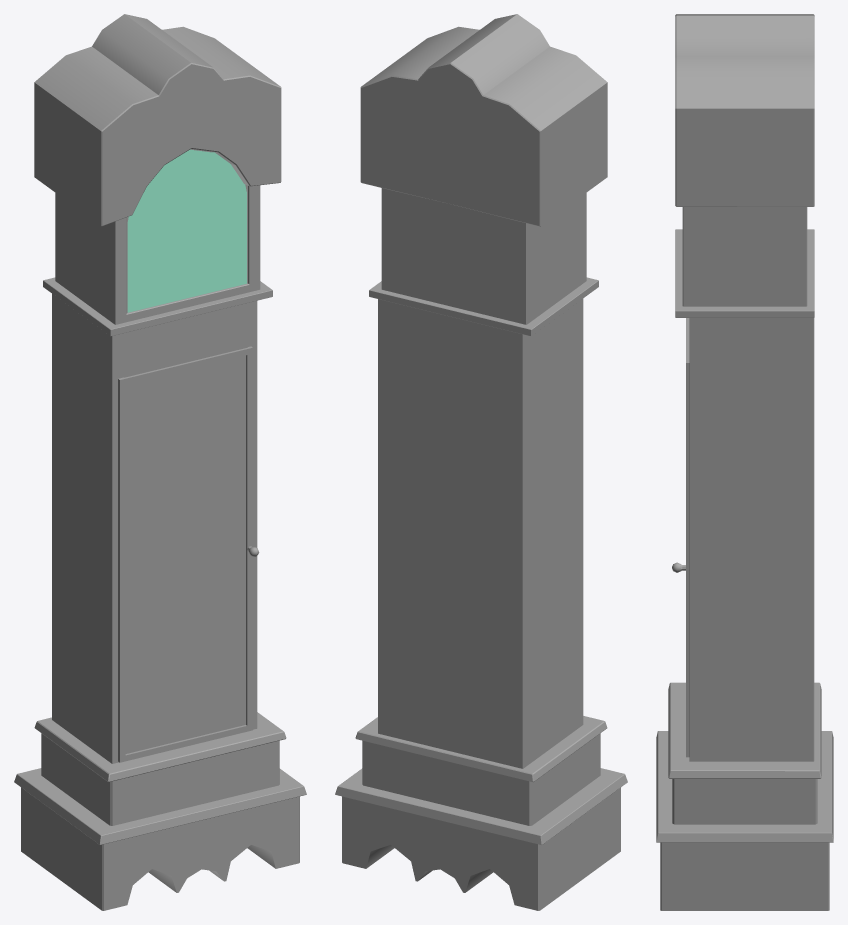
Rendered from gfclocknew.fbx.
3 views of the same model, side by side, from view 1: azimuth 30°, elevation 25°; view 2: azimuth 150°, elevation 25°; view 3: azimuth 270°, elevation 25° (orthographic). The views are drawn at different scales.
Visible parts, largest first — view 1: pPlane5, pCube146, lowpolyclock, pCube134, polySurface996, pCube135, polySurface82, pCube138, pCube140, pCube139, pCube136; view 2: pCube146, lowpolyclock, polySurface82, pCube134, pCube135, pCube140, pCube139, pCube136; view 3: pCube146, lowpolyclock, polySurface82, pCube134, pCube135, pCube140, pCube139, pCube136, pCube138.
Part boxes in pixels (x1,y1,x2,y2): pPlane5: (124,344,247,753); pCube146: (52,294,257,763); lowpolyclock: (34,14,281,226); pCube134: (21,787,299,910); polySurface996: (126,149,247,312); pCube135: (41,733,279,825); polySurface82: (55,185,260,324); pCube138: (118,346,252,762); pCube140: (14,768,306,844); pCube139: (34,712,286,782); pCube136: (43,277,272,336); pCube146: (378,299,583,768); lowpolyclock: (360,14,607,226); polySurface82: (381,188,586,324); pCube134: (342,787,620,910); pCube135: (362,733,600,825); pCube140: (335,768,627,844); pCube139: (355,716,607,782); pCube136: (369,277,598,336); pCube146: (689,318,814,761); lowpolyclock: (675,14,814,206); polySurface82: (682,207,807,306); pCube134: (660,842,829,910); pCube135: (672,779,817,824); pCube140: (656,731,833,842); pCube139: (668,682,821,778); pCube136: (675,229,814,317); pCube138: (686,318,689,757).
Bounding box in the file's own units: 71.57 × 270 × 51.56.
